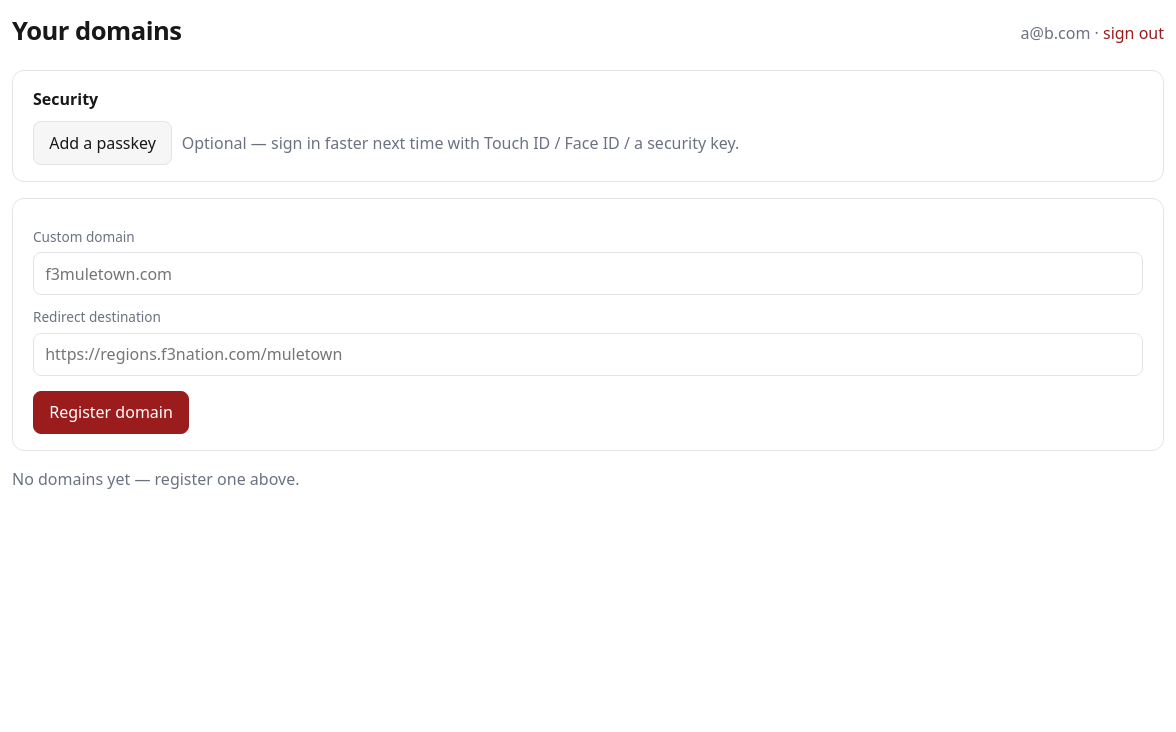
it: Dashboard › registers a domain (POST) and renders the new card
The width and height of the screenshot is (1176, 732).
Type "x.com" into the field labelled "Custom domain" at (588,274), box [33, 252, 1143, 295]
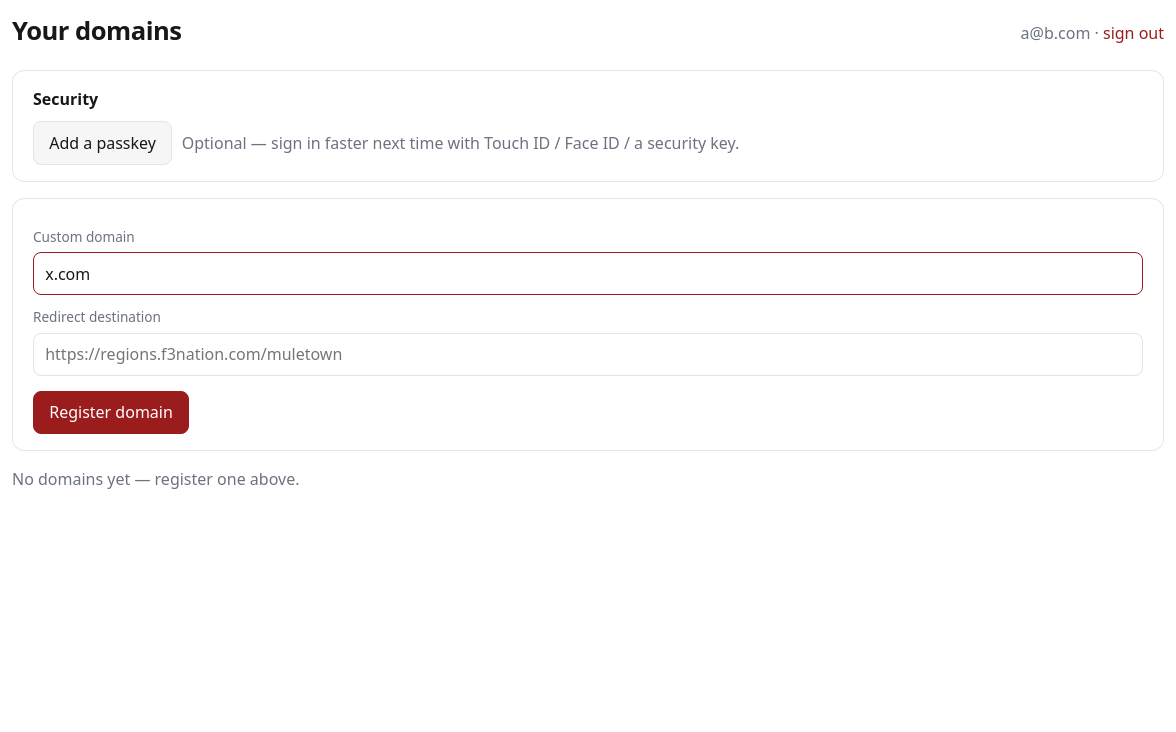
Type "https://y.com" into the field labelled "Redirect destination" at (588,354), box [33, 332, 1143, 376]
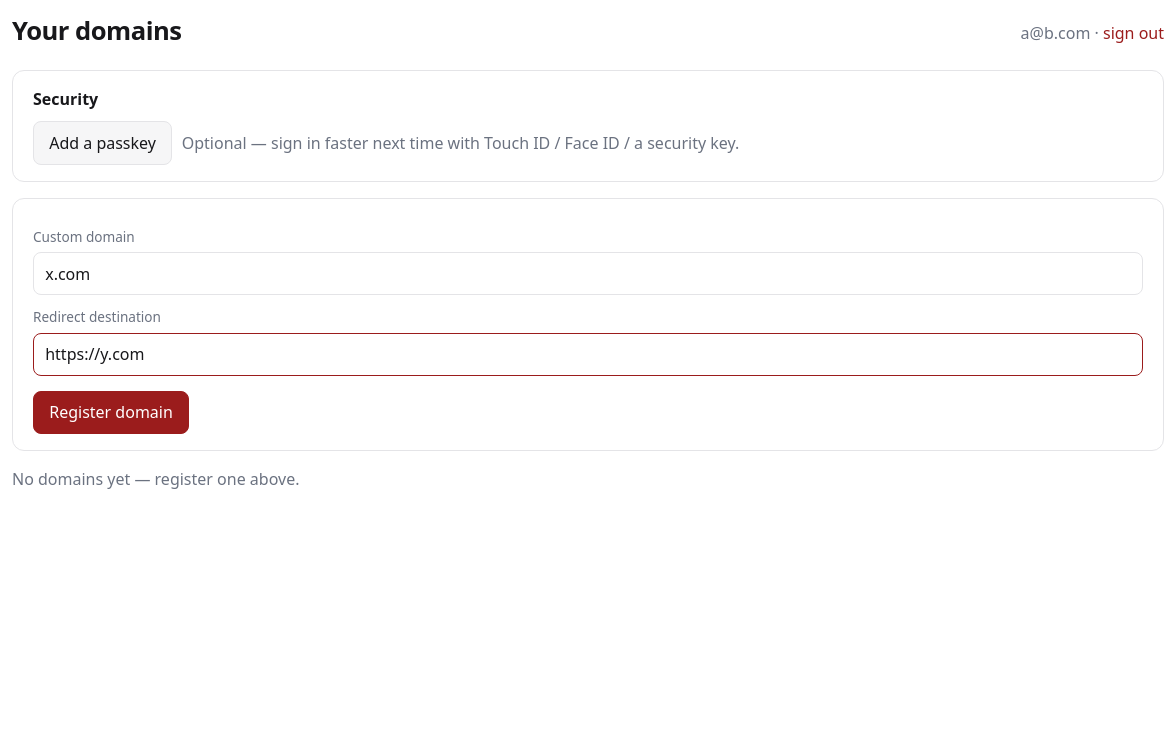
Click the button "Register domain" at (111,412), box [33, 390, 189, 434]
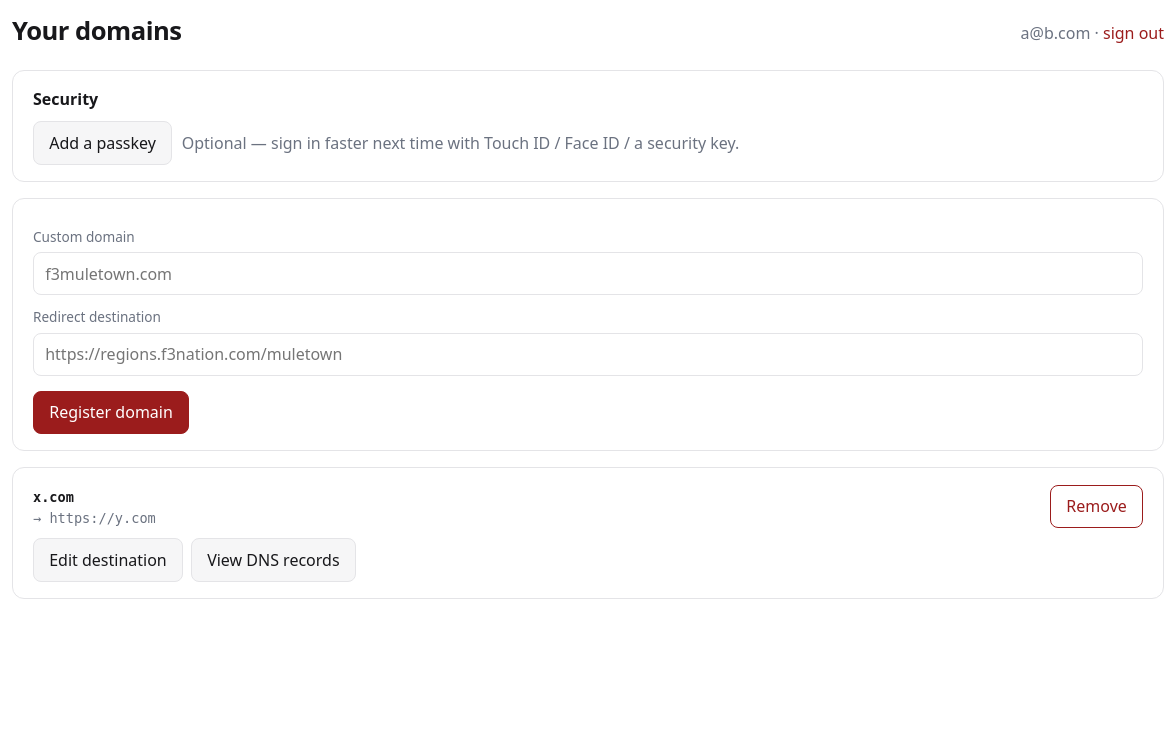
Result: the text "https://y.com" is shown at [49, 510, 156, 526]
